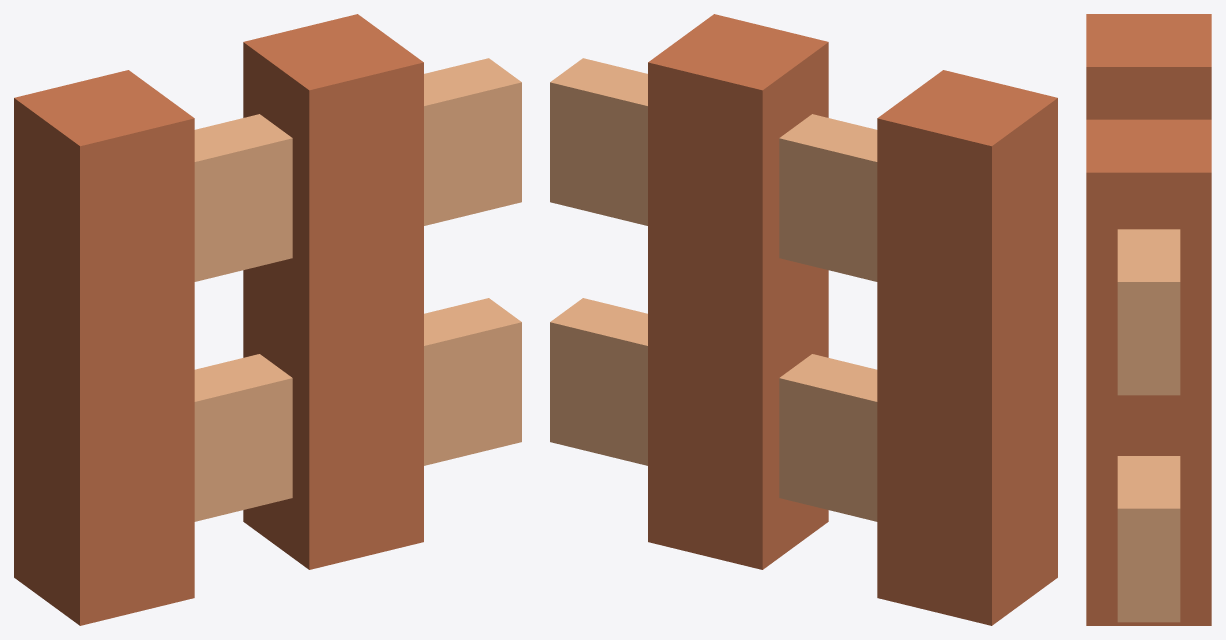
The model's file is wood-fence.glb.
3 renders of one model, left to right at view 1: azimuth 30°, elevation 25°; view 2: azimuth 150°, elevation 25°; view 3: azimuth 270°, elevation 25°, orthographic. The views are drawn at different scales.
Visible parts, largest first — view 1: generated(Clone); view 2: generated(Clone); view 3: generated(Clone).
Part boxes in pixels (box(x1,y1,x2,y2)): generated(Clone): box(14, 14, 521, 625); generated(Clone): box(550, 14, 1057, 625); generated(Clone): box(1086, 14, 1211, 625).
Bounding box in the file's own units: 8 × 8 × 2.
Materials: 1 (1 with a texture image).
